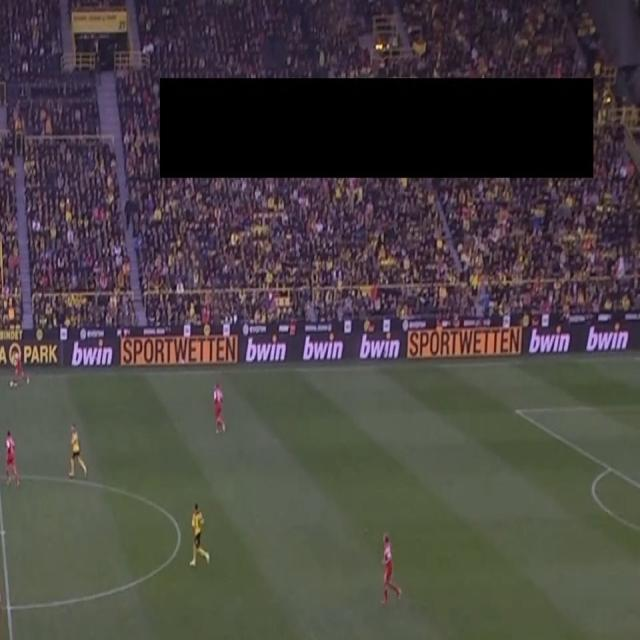ball: (9, 378, 14, 389)
